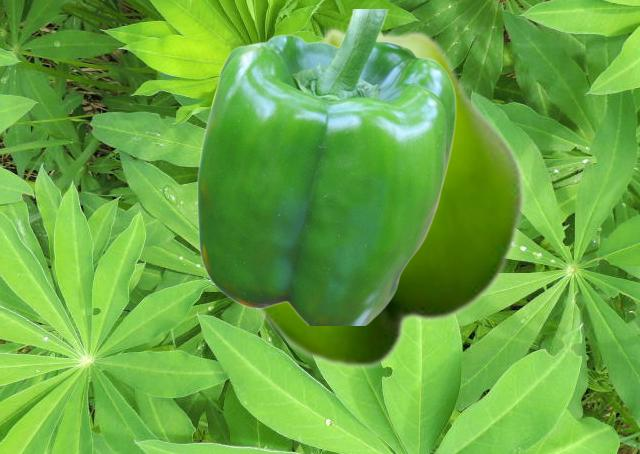bell_pepper: (209, 26, 525, 369), (196, 9, 455, 324)
